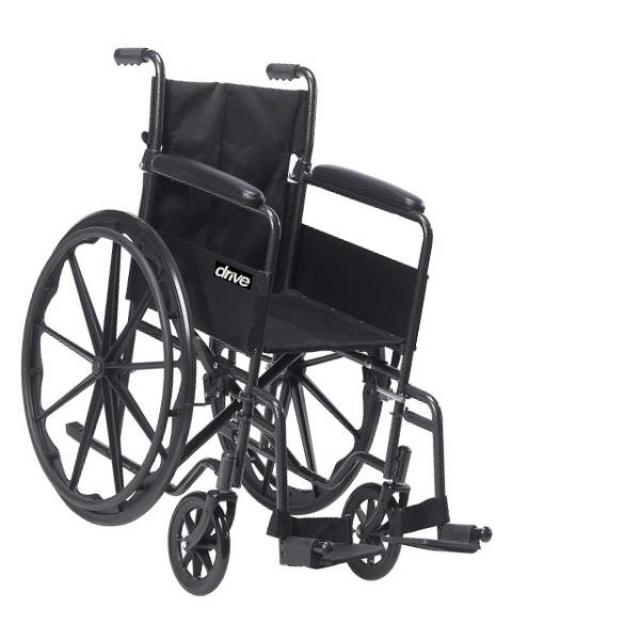wheelchair: (20, 41, 508, 609)
